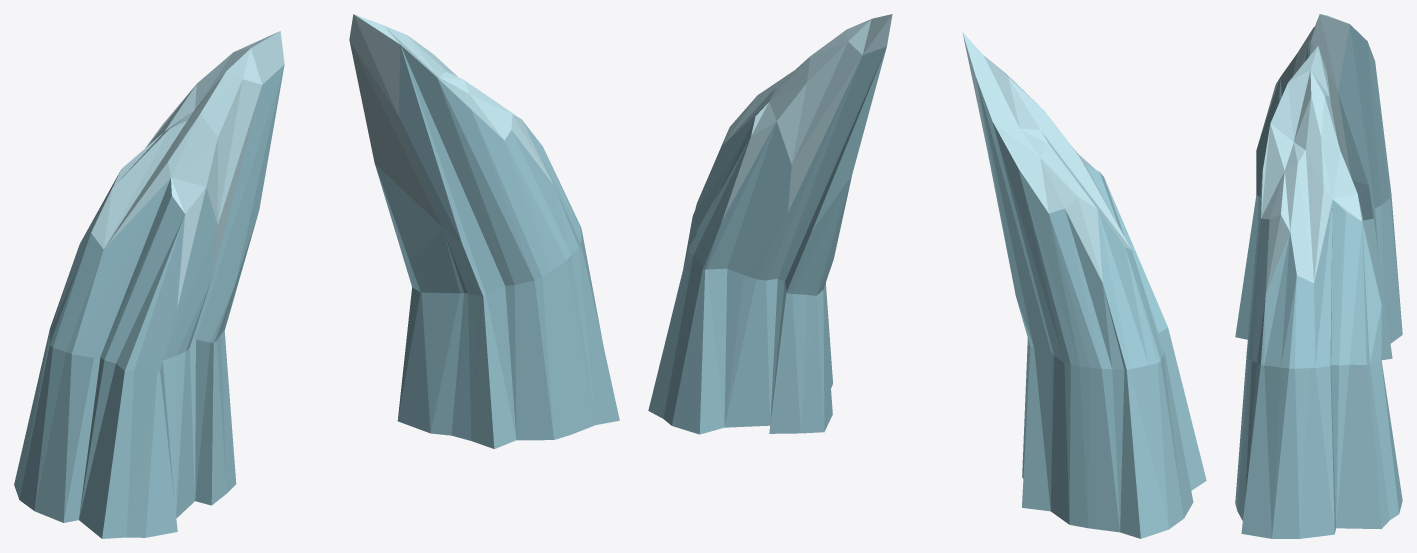
File: sharp_rock_1.fbx
3 renders of one model, left to right at view 1: azimuth 30°, elevation 25°; view 2: azimuth 150°, elevation 25°; view 3: azimuth 270°, elevation 25°, orthographic. The views are drawn at different scales.
Parts seen in each view (by area): view 1: sharp_rock_1; view 2: sharp_rock_1; view 3: sharp_rock_1.
Part boxes in pixels (bbox=[...]): sharp_rock_1: bbox=[14, 14, 619, 538]; sharp_rock_1: bbox=[648, 14, 1206, 538]; sharp_rock_1: bbox=[1235, 14, 1402, 538].
Bounding box in the file's own units: 434 × 329 × 128.
